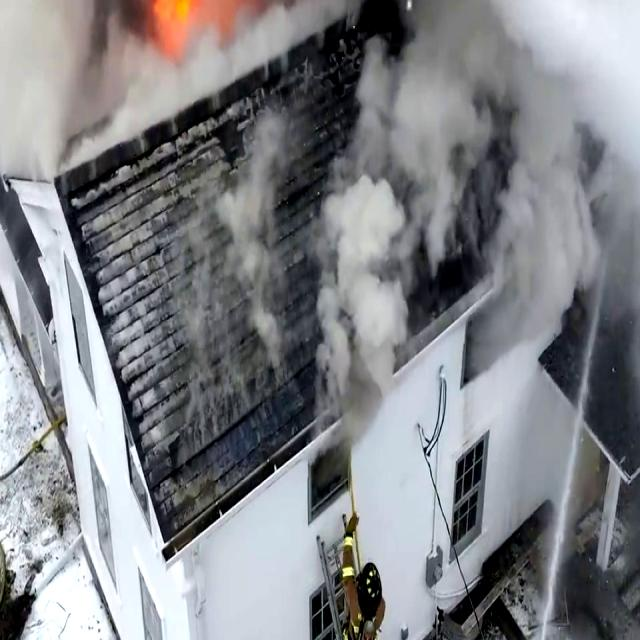fire: (143, 0, 249, 55)
smoke: (310, 0, 640, 437), (0, 0, 283, 187)
